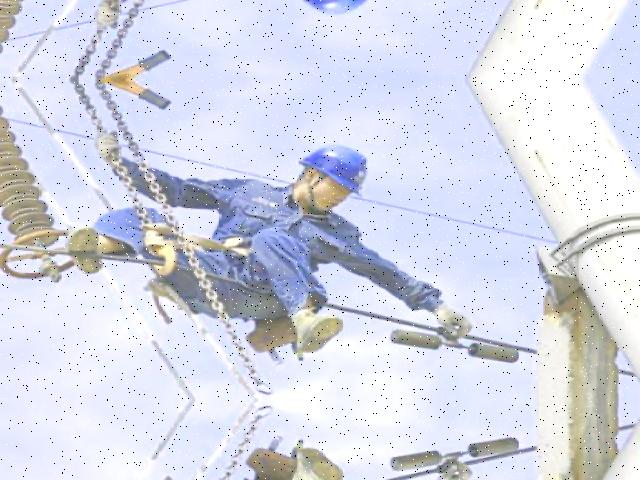Helmet: (296, 140, 376, 200)
